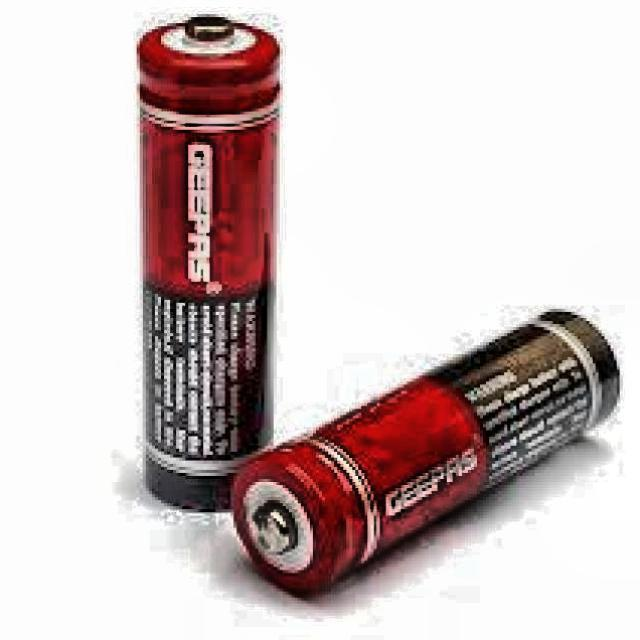battery: (229, 309, 621, 600), (137, 14, 279, 512)
